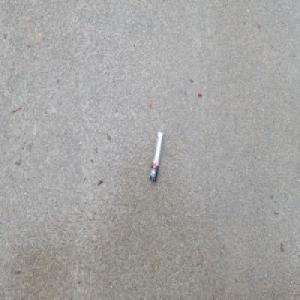Battery: (149, 130, 164, 183)
